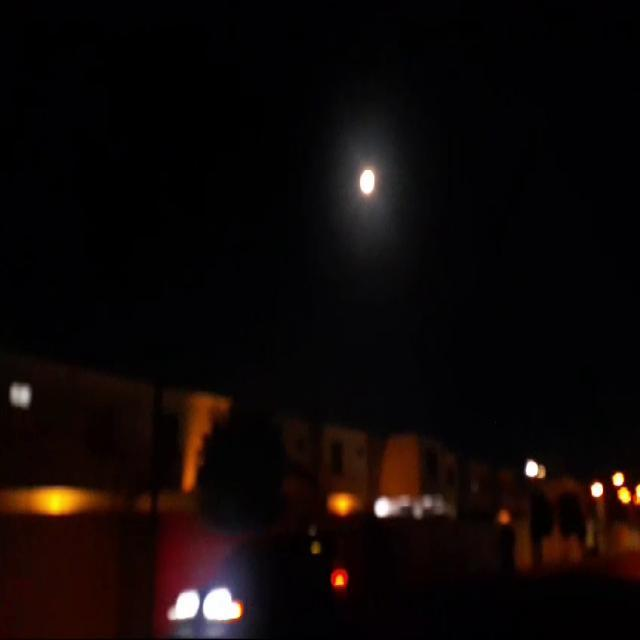moon: (362, 168, 382, 202)
